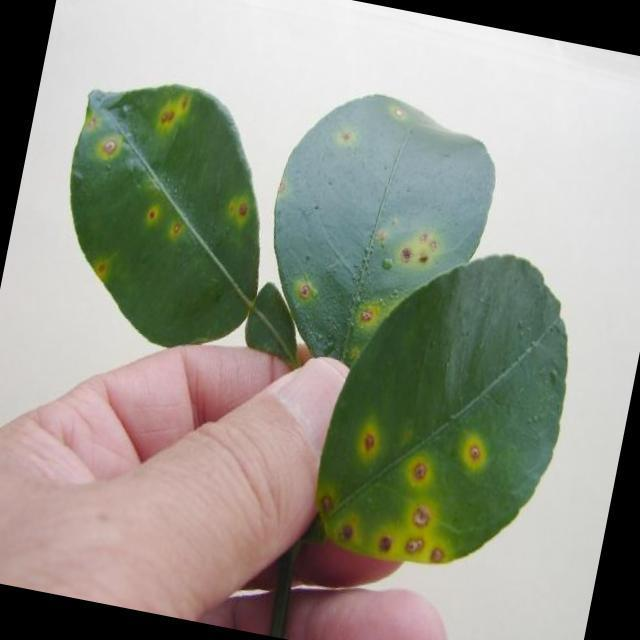Bacterial Spot: (316, 350, 512, 577), (68, 90, 274, 260), (289, 195, 452, 338)
